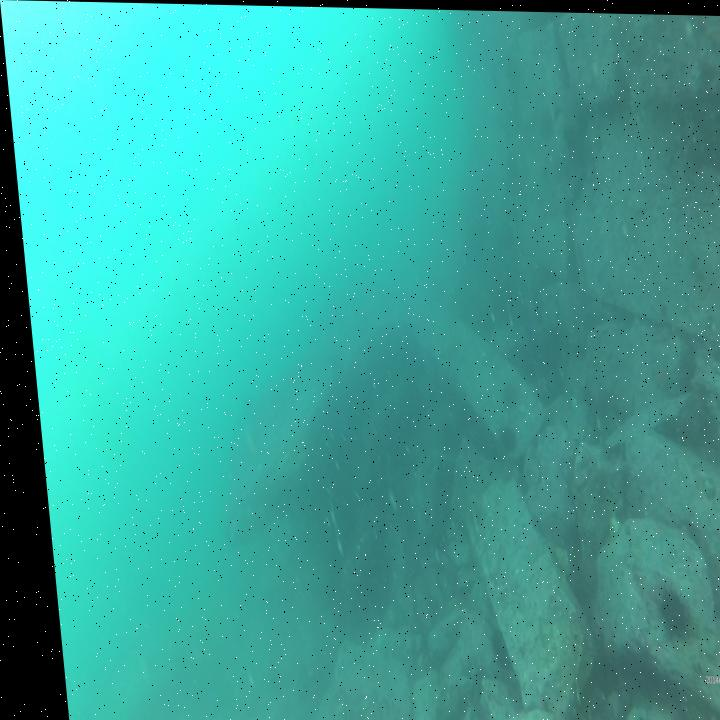echinus: (642, 582, 682, 638), (491, 425, 510, 453)
